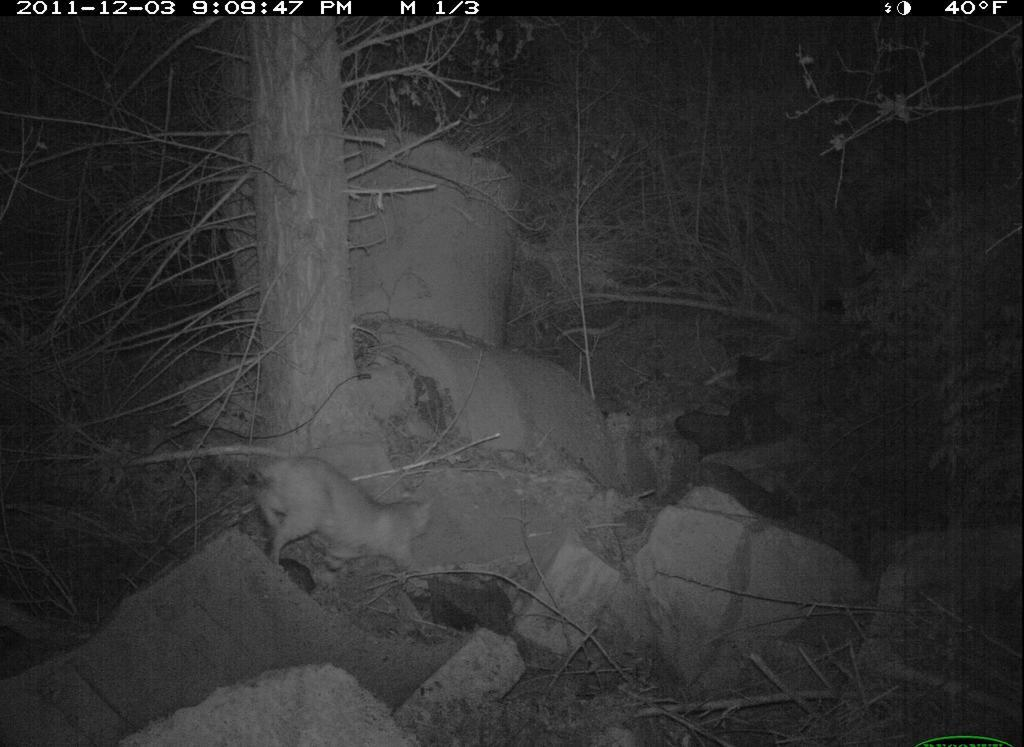bobcat: (239, 446, 449, 598)
